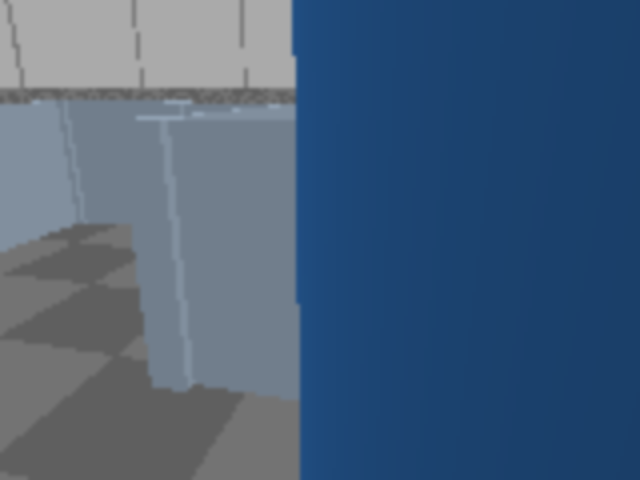puck: (369, 306, 414, 359)
